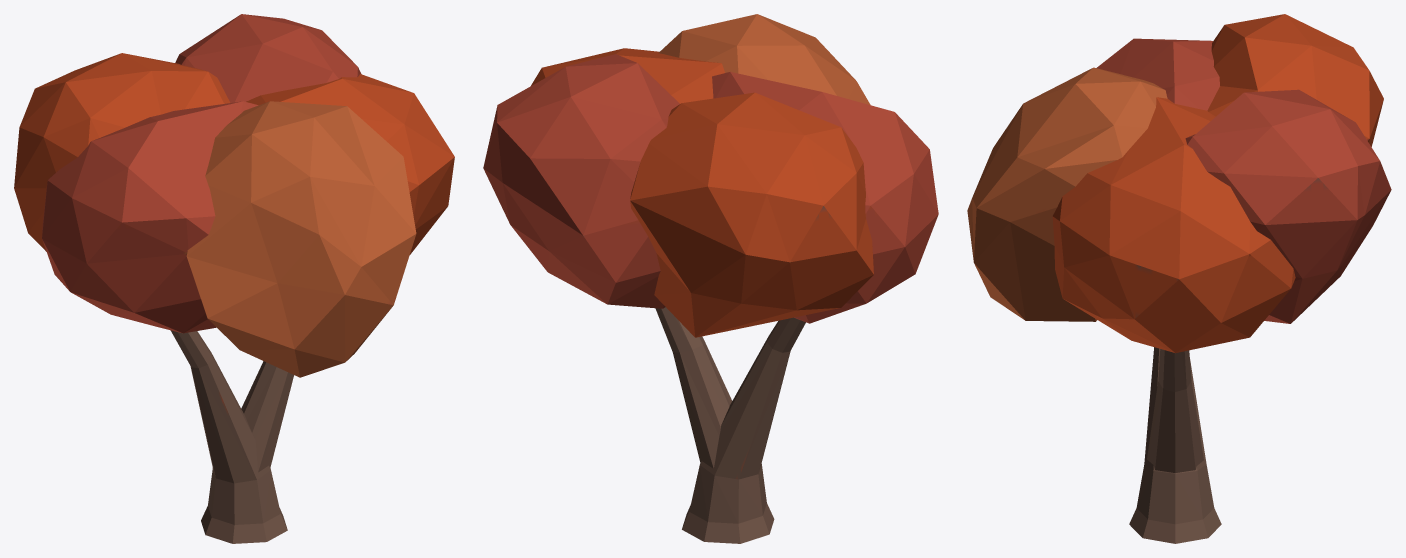
The model's file is split_trunk_deciduous_tree_red_leaves.obj.
3 renders of one model, left to right at view 1: azimuth 30°, elevation 25°; view 2: azimuth 150°, elevation 25°; view 3: azimuth 270°, elevation 25°, orthographic. The views are drawn at different scales.
Visible parts, largest first — view 1: Split_trunk_deciduous_tree_red_leaves; view 2: Split_trunk_deciduous_tree_red_leaves; view 3: Split_trunk_deciduous_tree_red_leaves.
Boxes of the visible parts, bbox=[...] form: Split_trunk_deciduous_tree_red_leaves: bbox=[14, 14, 454, 543]; Split_trunk_deciduous_tree_red_leaves: bbox=[483, 14, 938, 543]; Split_trunk_deciduous_tree_red_leaves: bbox=[967, 14, 1391, 543].
Bounding box in the file's own units: 2.36 × 2.63 × 2.21.
1 material, 1 textured.
